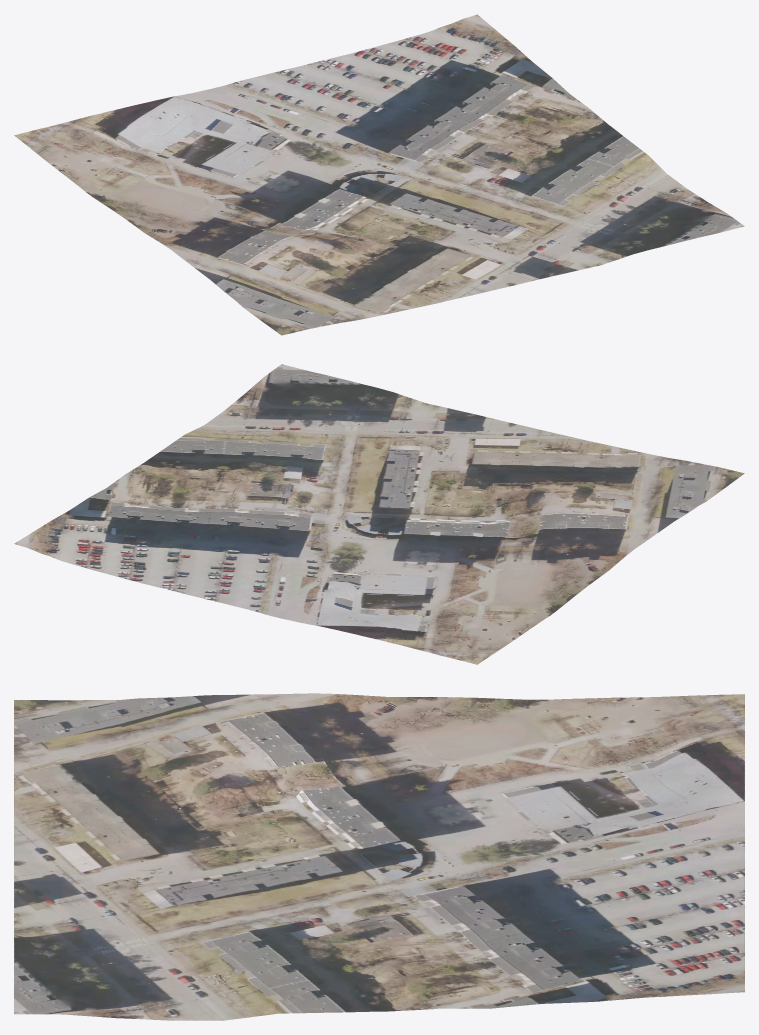
The model's file is CM_Terrain_24491482_6815903.fbx.
3 views of the same model, one above another, from view 1: azimuth 30°, elevation 25°; view 2: azimuth 150°, elevation 25°; view 3: azimuth 270°, elevation 25° (orthographic). The views are drawn at different scales.
Visible parts, largest first — view 1: CM_Terrain_24491482_6815903_LOD0; view 2: CM_Terrain_24491482_6815903_LOD0; view 3: CM_Terrain_24491482_6815903_LOD0.
Part boxes in pixels (left/top/right/bottom): CM_Terrain_24491482_6815903_LOD0: left=14, top=14, right=744, bottom=335; CM_Terrain_24491482_6815903_LOD0: left=14, top=364, right=744, bottom=664; CM_Terrain_24491482_6815903_LOD0: left=14, top=693, right=744, bottom=1020.
Size of what is drawn, in the model's own units: 205 by 8.8 by 205.
